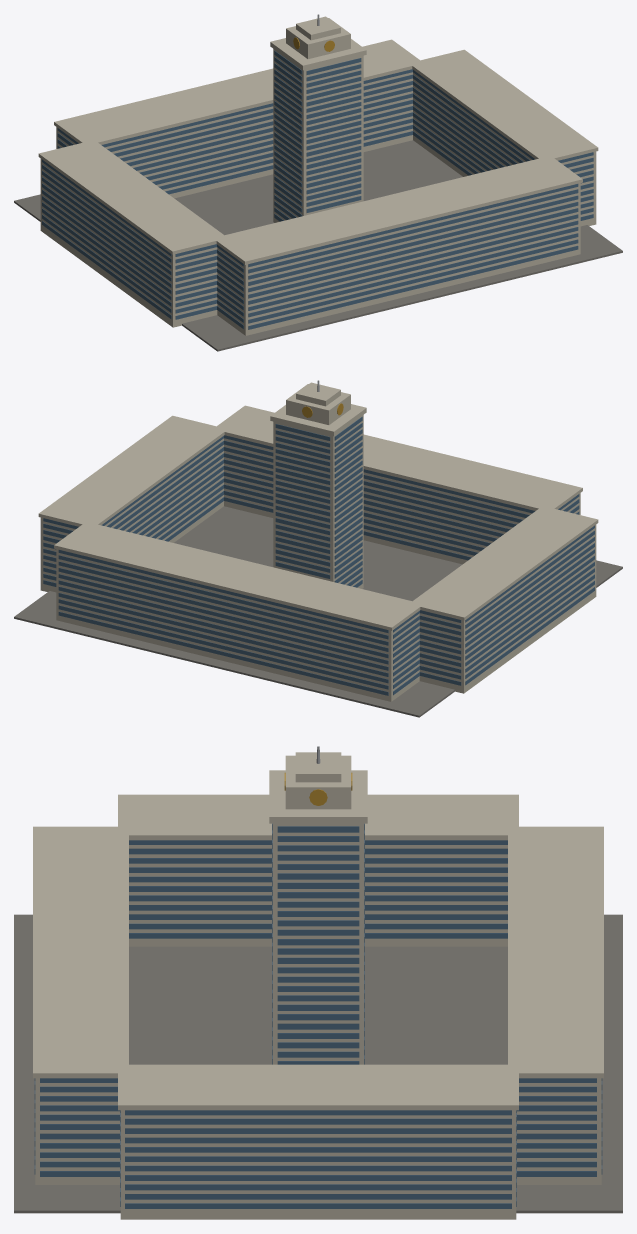
The model's file is shell_centre.glb.
3 renders of one model, top to bottom at view 1: azimuth 30°, elevation 25°; view 2: azimuth 150°, elevation 25°; view 3: azimuth 270°, elevation 25°, orthographic. The views are drawn at different scales.
Parts seen in each view (by area): view 1: shell_centre; view 2: shell_centre; view 3: shell_centre.
Part boxes in pixels (left/top/right/bottom): shell_centre: left=14, top=14, right=622, bottom=351; shell_centre: left=14, top=380, right=622, bottom=717; shell_centre: left=14, top=746, right=622, bottom=1219.
Size of the model in its own units: 242 by 116 by 200.
